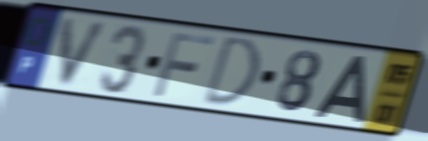3: (98, 21, 148, 97)
8: (276, 48, 323, 115)
A: (311, 53, 369, 125)
D: (199, 33, 262, 108)
F: (150, 29, 218, 99)
V: (58, 15, 114, 90)
